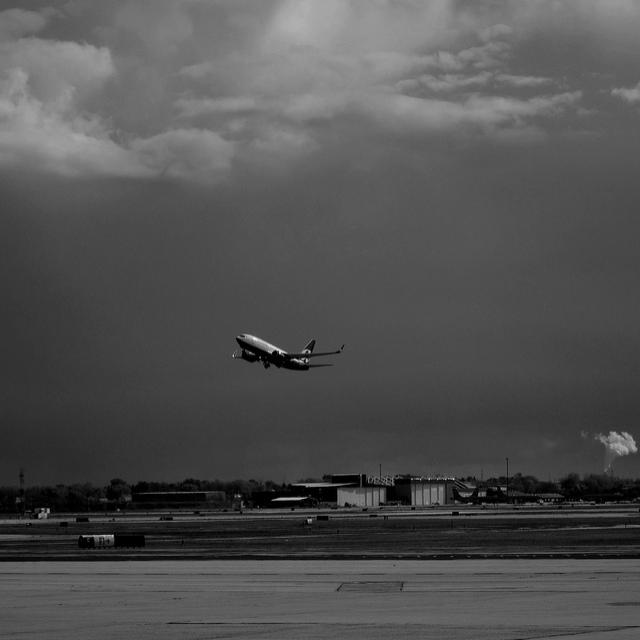airplane: (226, 326, 348, 375)
